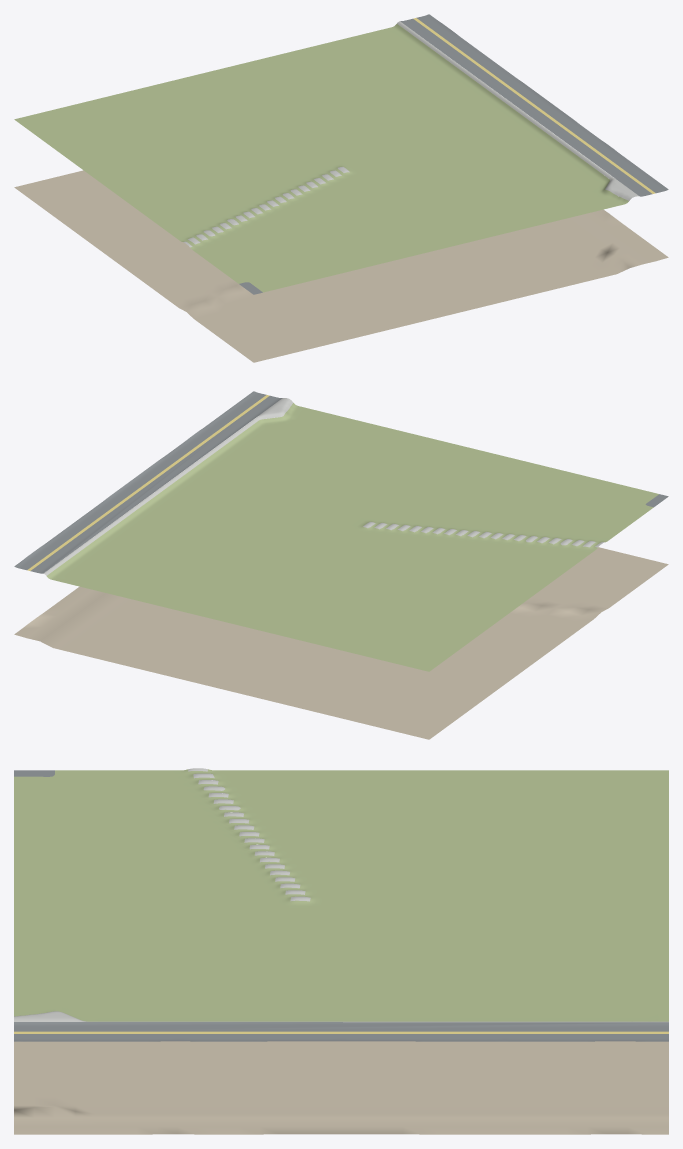
3 renders of one model, top to bottom at view 1: azimuth 30°, elevation 25°; view 2: azimuth 150°, elevation 25°; view 3: azimuth 270°, elevation 25°, orthographic. The views are drawn at different scales.
Visible parts, largest first — view 1: s_-8_-2__grass, s_-8_-2__soil, s_-8_-2__asphalt, s_-8_-2__stone_paving, s_-8_-2__yellow_marking; view 2: s_-8_-2__grass, s_-8_-2__soil, s_-8_-2__asphalt, s_-8_-2__stone_paving, s_-8_-2__yellow_marking; view 3: s_-8_-2__grass, s_-8_-2__soil, s_-8_-2__asphalt, s_-8_-2__stone_paving, s_-8_-2__yellow_marking.
Part boxes in pixels (<box>): s_-8_-2__grass: <box>14,24,628,292</box>; s_-8_-2__soil: <box>14,170,668,362</box>; s_-8_-2__asphalt: <box>239,14,668,294</box>; s_-8_-2__stone_paving: <box>183,21,638,247</box>; s_-8_-2__yellow_marking: <box>413,18,655,193</box>; s_-8_-2__grass: <box>46,403,658,671</box>; s_-8_-2__soil: <box>14,547,668,739</box>; s_-8_-2__asphalt: <box>14,391,668,573</box>; s_-8_-2__stone_paving: <box>43,398,604,575</box>; s_-8_-2__yellow_marking: <box>27,395,269,570</box>; s_-8_-2__grass: <box>14,769,668,1021</box>; s_-8_-2__soil: <box>14,864,668,1134</box>; s_-8_-2__asphalt: <box>14,770,668,1041</box>; s_-8_-2__stone_paving: <box>14,768,668,1022</box>; s_-8_-2__yellow_marking: <box>14,1031,668,1033</box>.
Bounding box in the file's own units: 128 × 21.51 × 128.
